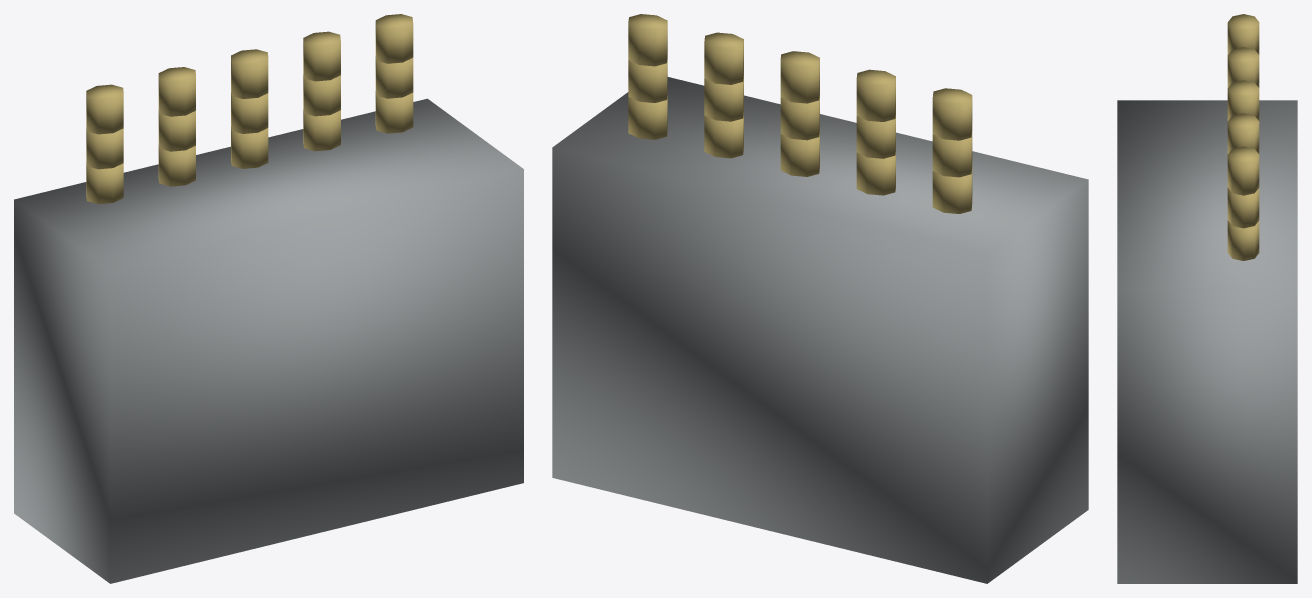
The model's file is votive_candle_stand__wide.glb.
The picture shows the model from 3 angles, left to right: view 1: azimuth 30°, elevation 25°; view 2: azimuth 150°, elevation 25°; view 3: azimuth 270°, elevation 25°; orthographic projection. The views are drawn at different scales.
Visible parts, largest first — view 1: world; view 2: world; view 3: world.
Part boxes in pixels (x1=…): world: x1=14, y1=14, x2=523, y2=583; world: x1=552, y1=14, x2=1088, y2=583; world: x1=1117, y1=14, x2=1297, y2=583.
Size of the model in its own units: 0.992 by 0.98 by 0.4.
